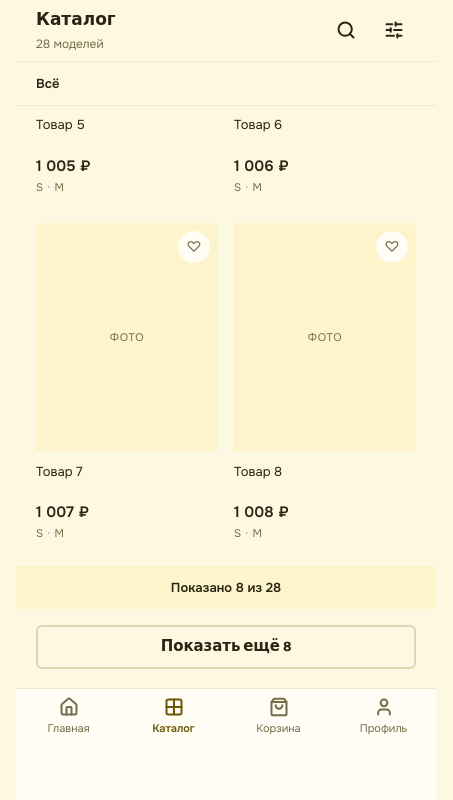
Test case: CatalogScreen — «Показать ещё» › догружает следующую страницу к уже показанным
(page scrolled)
Click the button "Показать ещё 8".
click(226, 647)  # box [36,625,416,669]
(page scrolled)
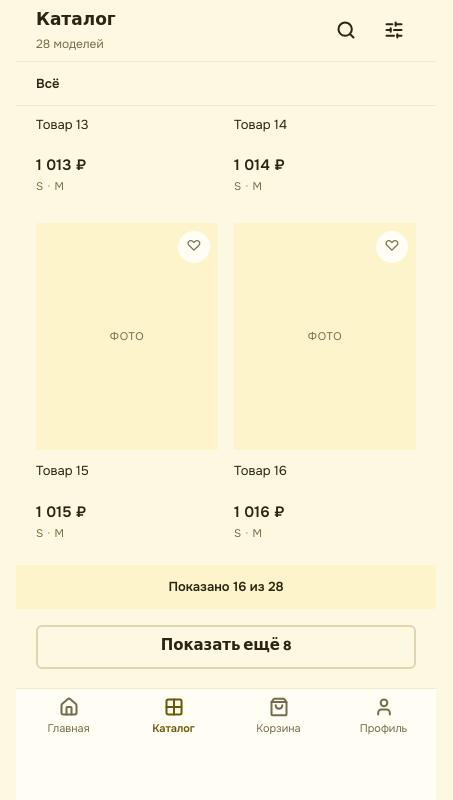
Check: the text "Показано 16 из 28" is shown, box [168,577,284,597]
